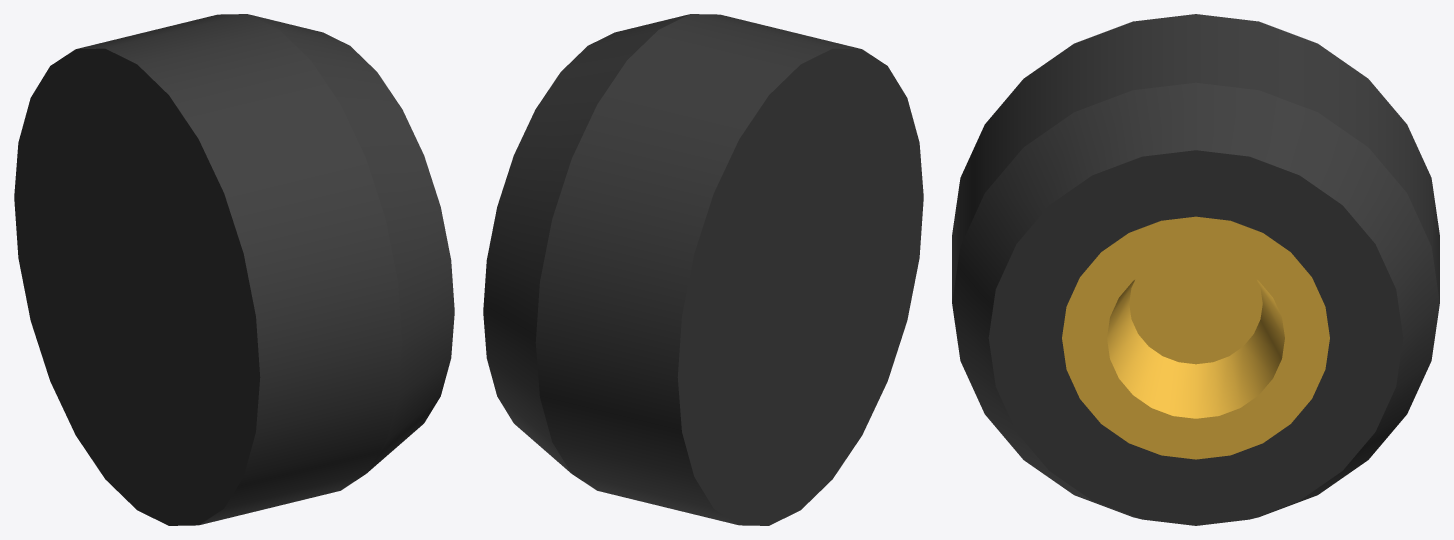
The model's file is wheelTractorFront.fbx.
3 views of the same model, side by side, from view 1: azimuth 30°, elevation 25°; view 2: azimuth 150°, elevation 25°; view 3: azimuth 270°, elevation 25° (orthographic).
Visible parts, largest first — view 1: wheelTractorFront; view 2: wheelTractorFront; view 3: wheelTractorFront.
Part boxes in pixels (bbox=[...]): wheelTractorFront: bbox=[14, 14, 454, 525]; wheelTractorFront: bbox=[483, 14, 923, 525]; wheelTractorFront: bbox=[952, 14, 1439, 525].
Size of the model in its own units: 2.69 by 5.39 by 5.39.
